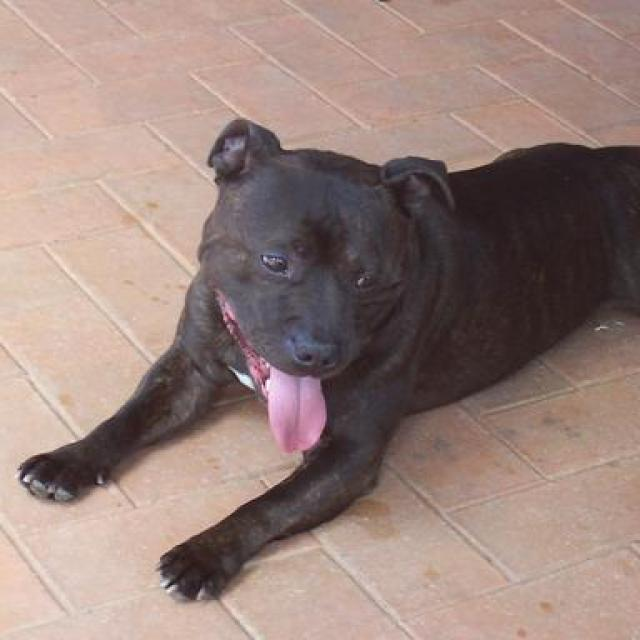happy: (6, 96, 640, 540)
